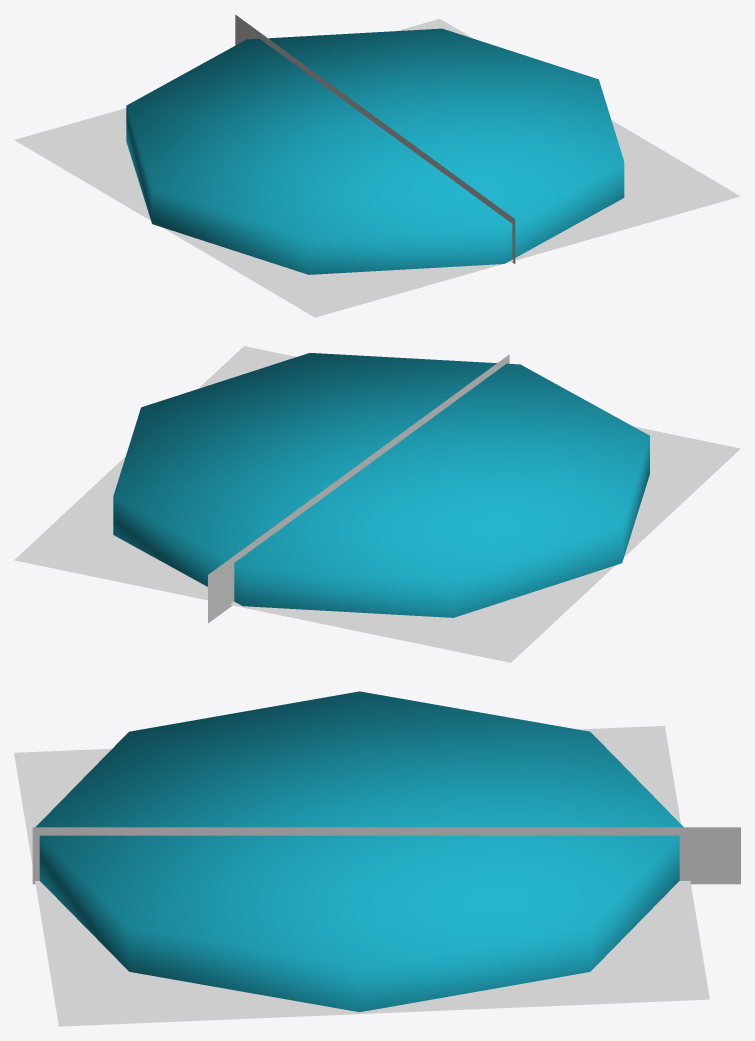
Rendered from spasm_spasm.fbx.
3 views of the same model, one above another, from view 1: azimuth 30°, elevation 25°; view 2: azimuth 150°, elevation 25°; view 3: azimuth 270°, elevation 25° (orthographic). The views are drawn at different scales.
Visible parts, largest first — view 1: terrain, water_surface:plane, level_portals; view 2: terrain, water_surface:plane, level_portals; view 3: terrain, water_surface:plane, level_portals.
Part boxes in pixels (x1,y1,x2,y2): terrain: (126,28,624,274); water_surface:plane: (14,19,740,317); level_portals: (235,14,515,263); terrain: (113,353,649,617); water_surface:plane: (14,346,740,662); level_portals: (208,354,509,623); terrain: (35,691,683,1012); water_surface:plane: (14,725,709,1026); level_portals: (32,827,740,884).
Size of what is drawn, in the model's own units: 126816 by 124165 by 30605.
